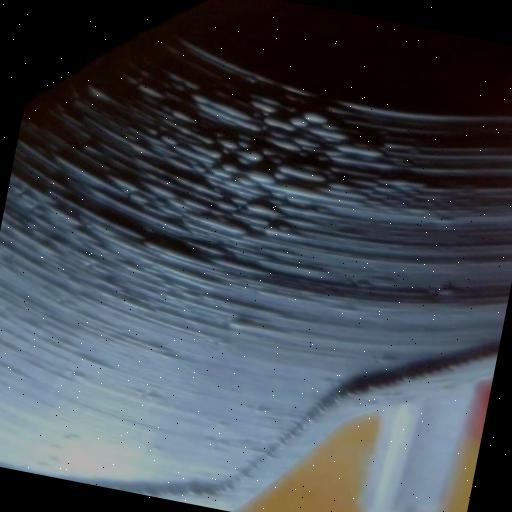blobs: (243, 163, 275, 189), (282, 112, 314, 138), (300, 107, 332, 130), (238, 144, 266, 168), (216, 158, 246, 180), (261, 112, 288, 136), (212, 193, 240, 216), (214, 132, 239, 156), (244, 195, 270, 218), (206, 162, 232, 182), (156, 132, 178, 151)
